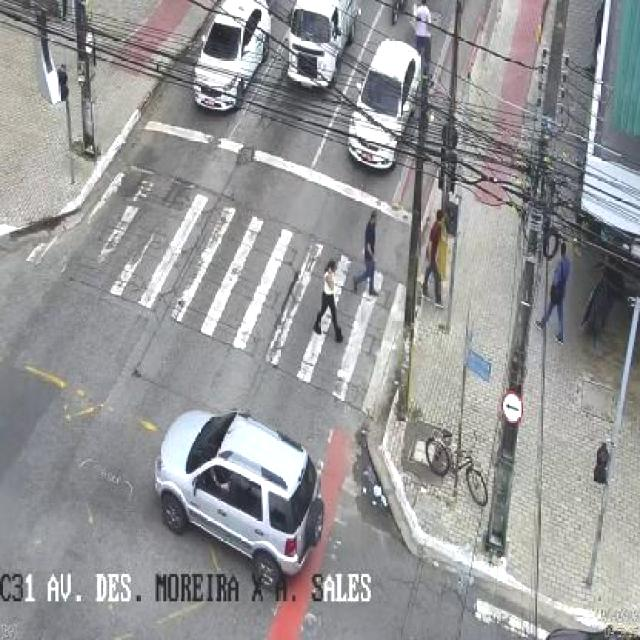Car: (159, 410, 328, 580), (349, 39, 425, 170), (195, 0, 269, 111)
Cycle: (422, 428, 500, 507)
Van: (287, 0, 360, 87)
